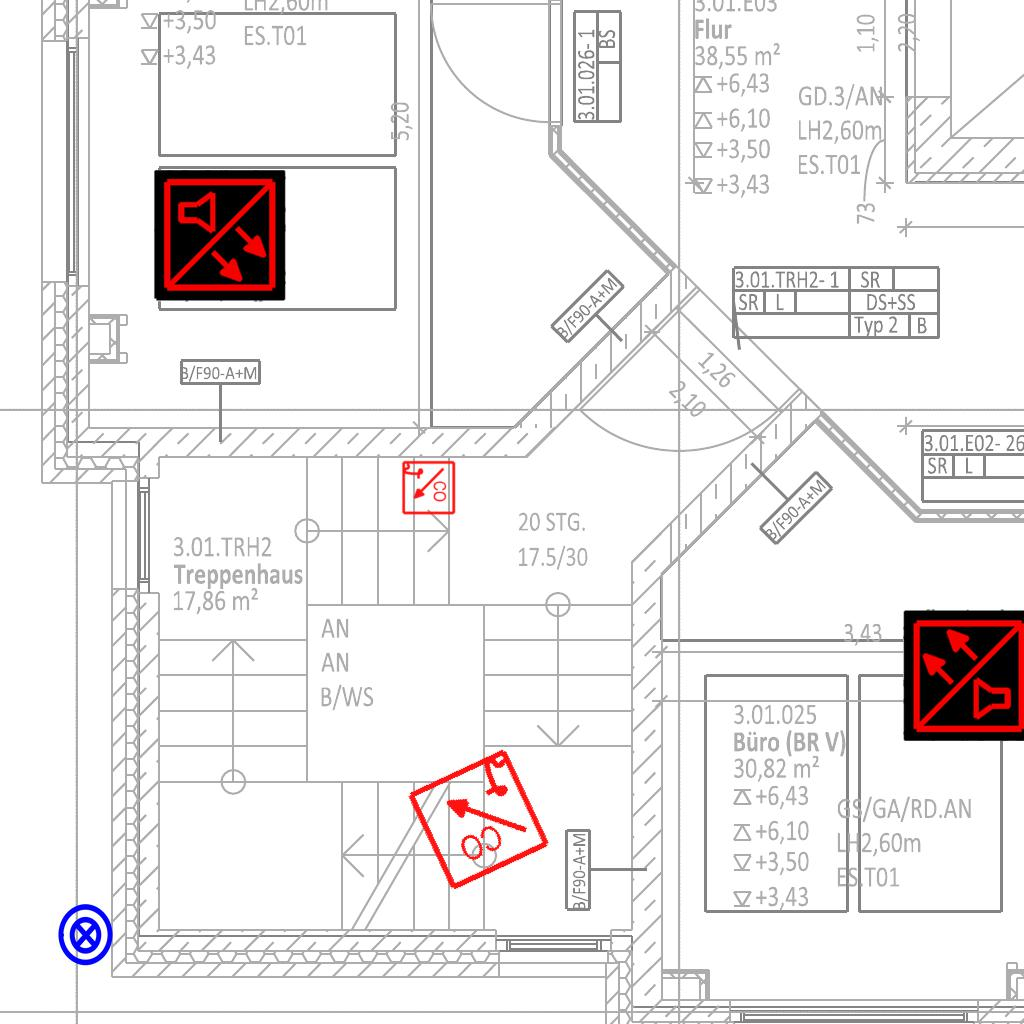OKW_Multisensormelder_(Kombination_optischer_Rauch-Kahlenmonoxid_Waerme-Melder): (154, 170, 286, 302), (903, 609, 1024, 741)
ROA_Rauchmelder_optisch_mit_Signalgeber_(Sockelsirene): (402, 743, 553, 894), (400, 460, 456, 516)
Taster_beleuchtet: (53, 902, 119, 968)
